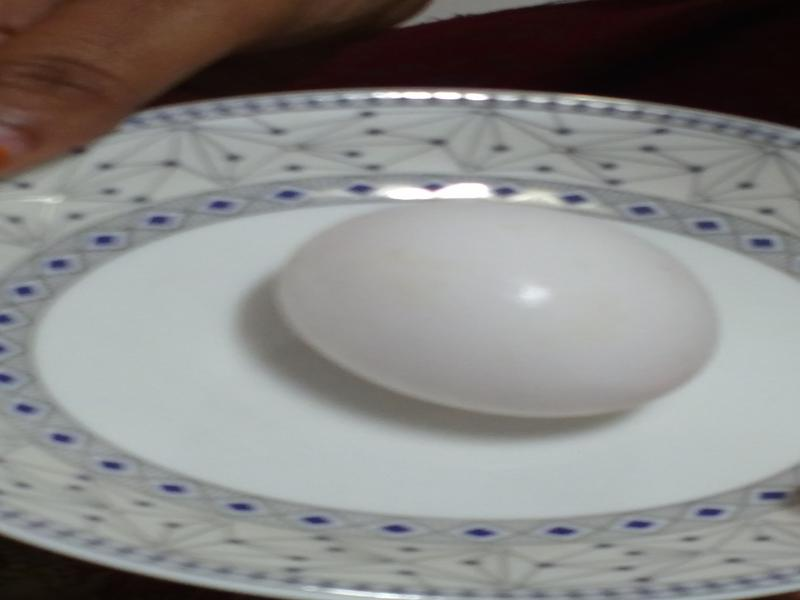egg: (281, 204, 719, 416)
